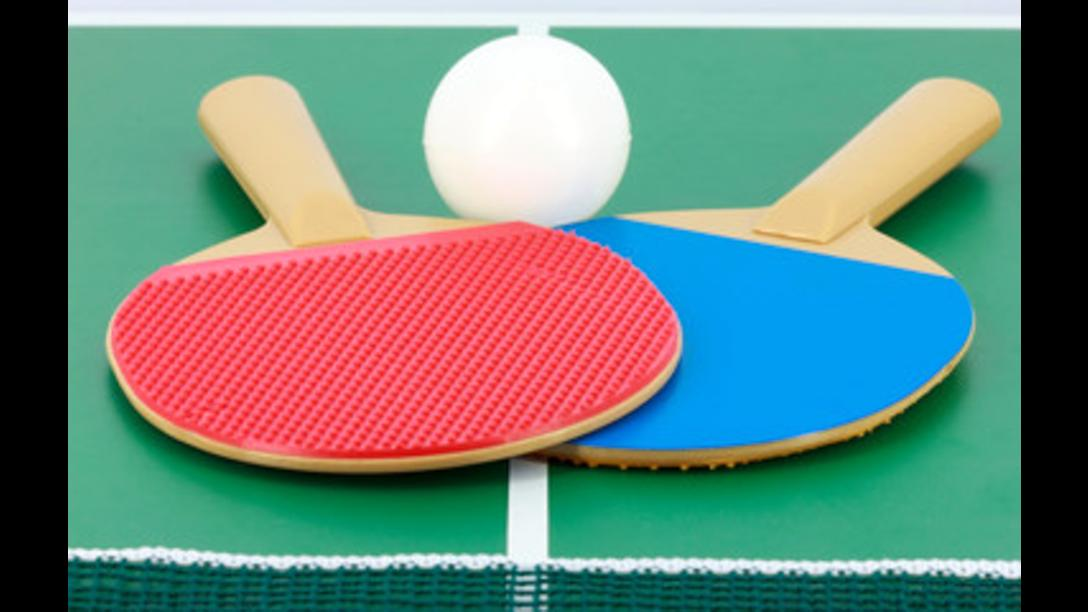Table-Tennis-Ball: (422, 37, 634, 229)
